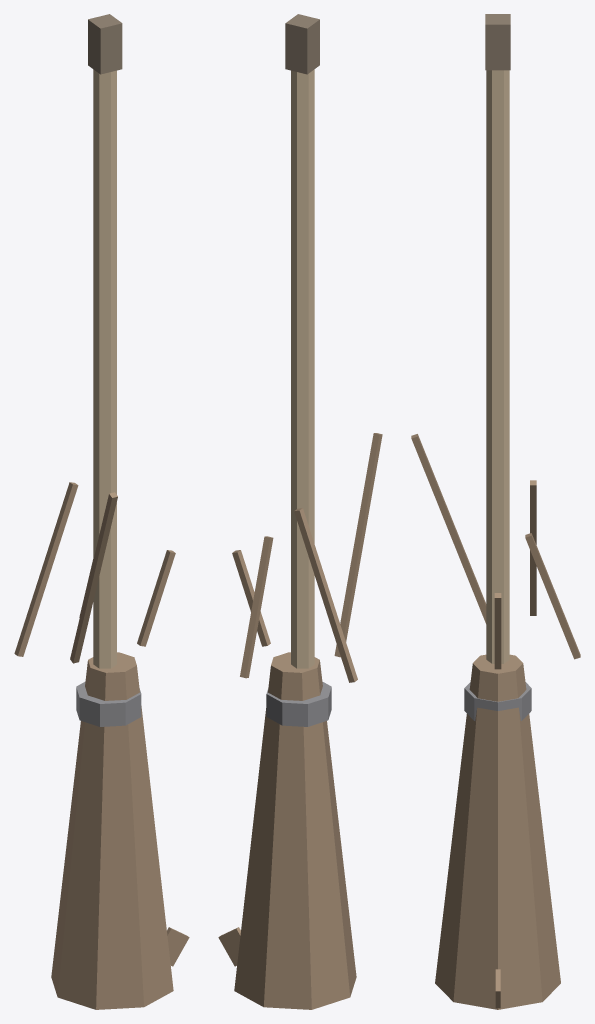
Rendered from prop-broom-unfinished.fbx.
3 views of the same model, side by side, from view 1: azimuth 30°, elevation 25°; view 2: azimuth 150°, elevation 25°; view 3: azimuth 270°, elevation 25° (orthographic).
Parts seen in each view (by area): view 1: prop-broom-unfinished; view 2: prop-broom-unfinished; view 3: prop-broom-unfinished.
Part boxes in pixels (x1,y1,x2,y2): prop-broom-unfinished: (14, 14, 189, 1009); prop-broom-unfinished: (218, 14, 382, 1009); prop-broom-unfinished: (411, 14, 580, 1009).
Bounding box in the file's own units: 21.12 × 126 × 20.12.
